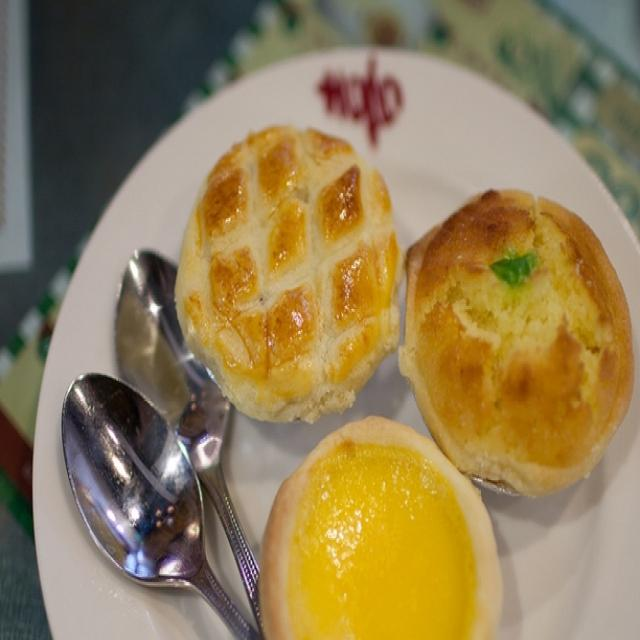炸货点心: (23, 27, 632, 629)
蛋糕甜品: (23, 27, 632, 629)
